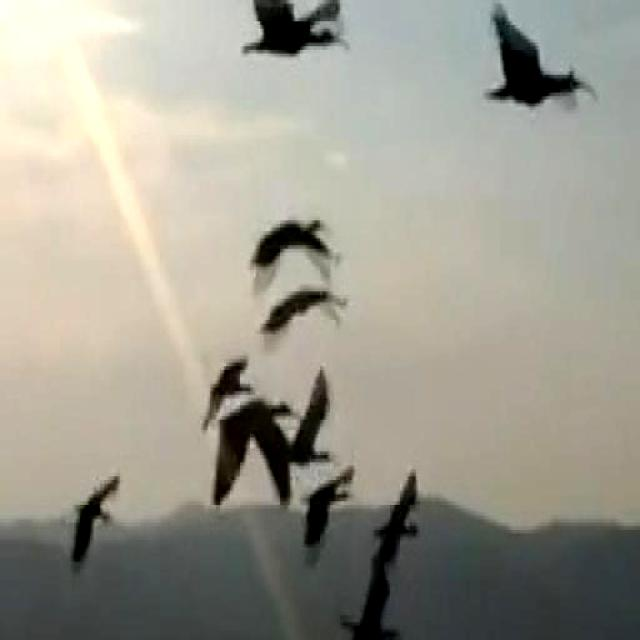airplane: (478, 0, 590, 138), (230, 0, 345, 82), (68, 471, 125, 585)
